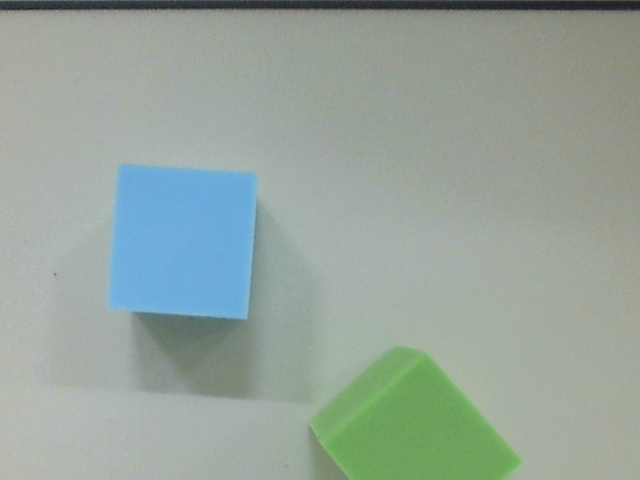greencube: (300, 340, 533, 480)
